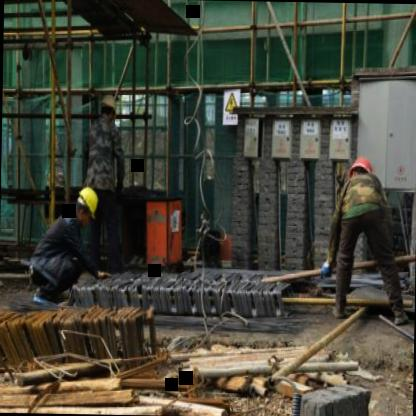helmet: (74, 183, 100, 225), (348, 156, 378, 192), (98, 87, 120, 122)
